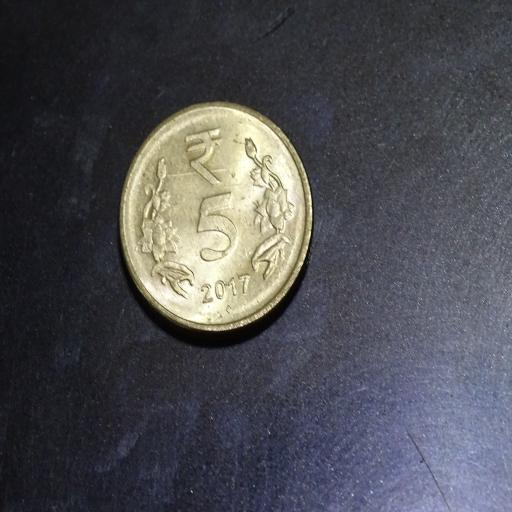rupee5: (116, 102, 313, 334)
